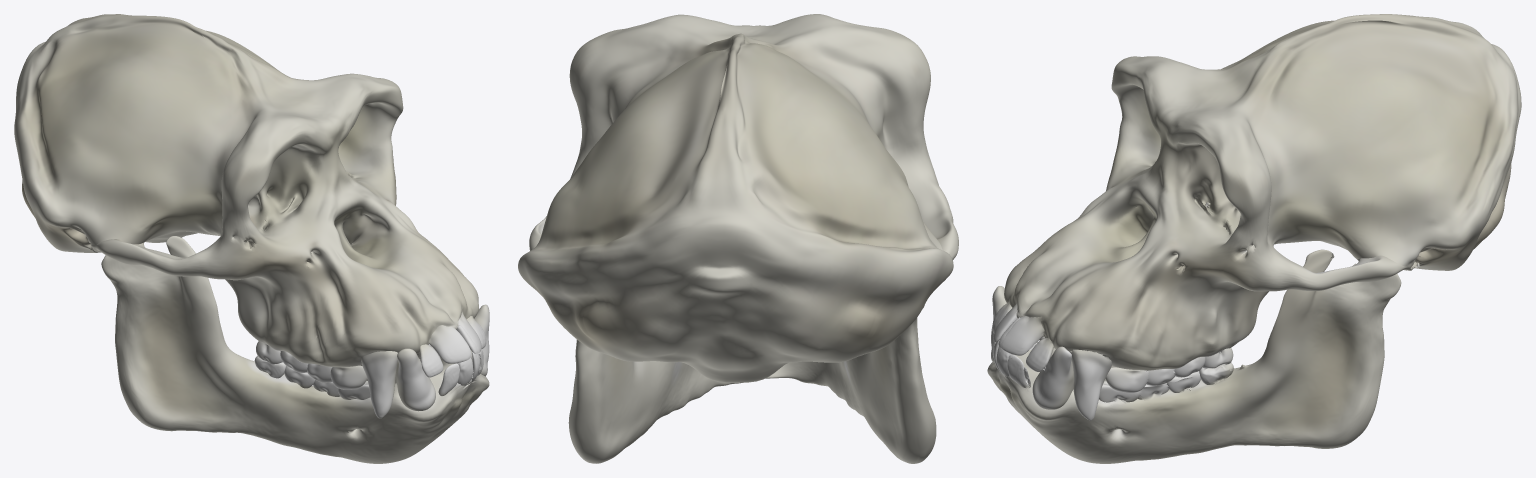
The model's file is h_craneo_chimp.glb.
3 renders of one model, left to right at view 1: azimuth 30°, elevation 25°; view 2: azimuth 150°, elevation 25°; view 3: azimuth 270°, elevation 25°, orthographic. The views are drawn at different scales.
Parts seen in each view (by area): view 1: Object_11, Object_10, Object_9, Object_12, Object_13, Object_2, Object_17, Object_18, Object_8, Object_19, Object_16; view 2: Object_11, Object_10, Object_12, Object_9; view 3: Object_11, Object_10, Object_12, Object_9, Object_13, Object_2, Object_17, Object_18, Object_8, Object_19, Object_16, Object_4.
Part boxes in pixels (bbox=[...]): Object_11: bbox=[14, 14, 478, 366]; Object_10: bbox=[14, 16, 460, 366]; Object_9: bbox=[101, 236, 489, 463]; Object_12: bbox=[95, 14, 478, 319]; Object_13: bbox=[396, 304, 489, 411]; Object_2: bbox=[361, 351, 398, 418]; Object_17: bbox=[429, 274, 481, 363]; Object_18: bbox=[419, 300, 486, 377]; Object_8: bbox=[330, 365, 367, 389]; Object_19: bbox=[438, 349, 483, 395]; Object_16: bbox=[284, 325, 478, 388]; Object_11: bbox=[523, 14, 958, 382]; Object_10: bbox=[518, 14, 957, 382]; Object_12: bbox=[518, 24, 736, 380]; Object_9: bbox=[568, 305, 936, 463]; Object_11: bbox=[1004, 14, 1517, 370]; Object_10: bbox=[1004, 14, 1519, 369]; Object_12: bbox=[1043, 17, 1521, 370]; Object_9: bbox=[987, 249, 1401, 463]; Object_13: bbox=[991, 268, 1410, 409]; Object_2: bbox=[1070, 349, 1111, 420]; Object_17: bbox=[993, 285, 1069, 355]; Object_18: bbox=[992, 302, 1058, 371]; Object_8: bbox=[1105, 367, 1147, 392]; Object_19: bbox=[992, 342, 1032, 391]; Object_16: bbox=[998, 317, 1200, 392]; Object_4: bbox=[1039, 336, 1139, 406].
Size of the model in its own units: 583 by 620 by 769.
